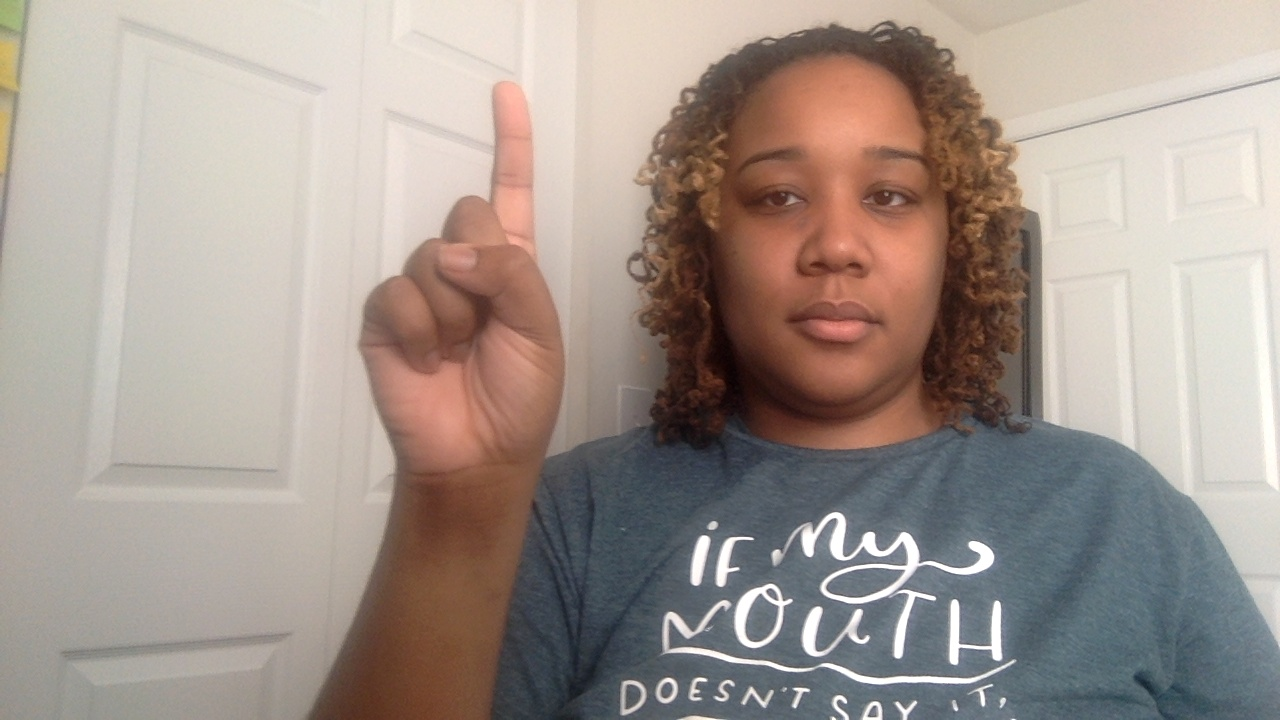up: (305, 74, 596, 720)
